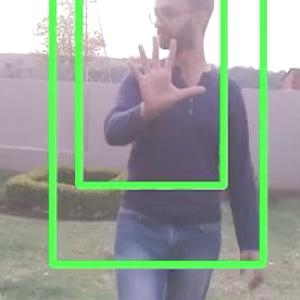follow_hand: (120, 30, 209, 120)
